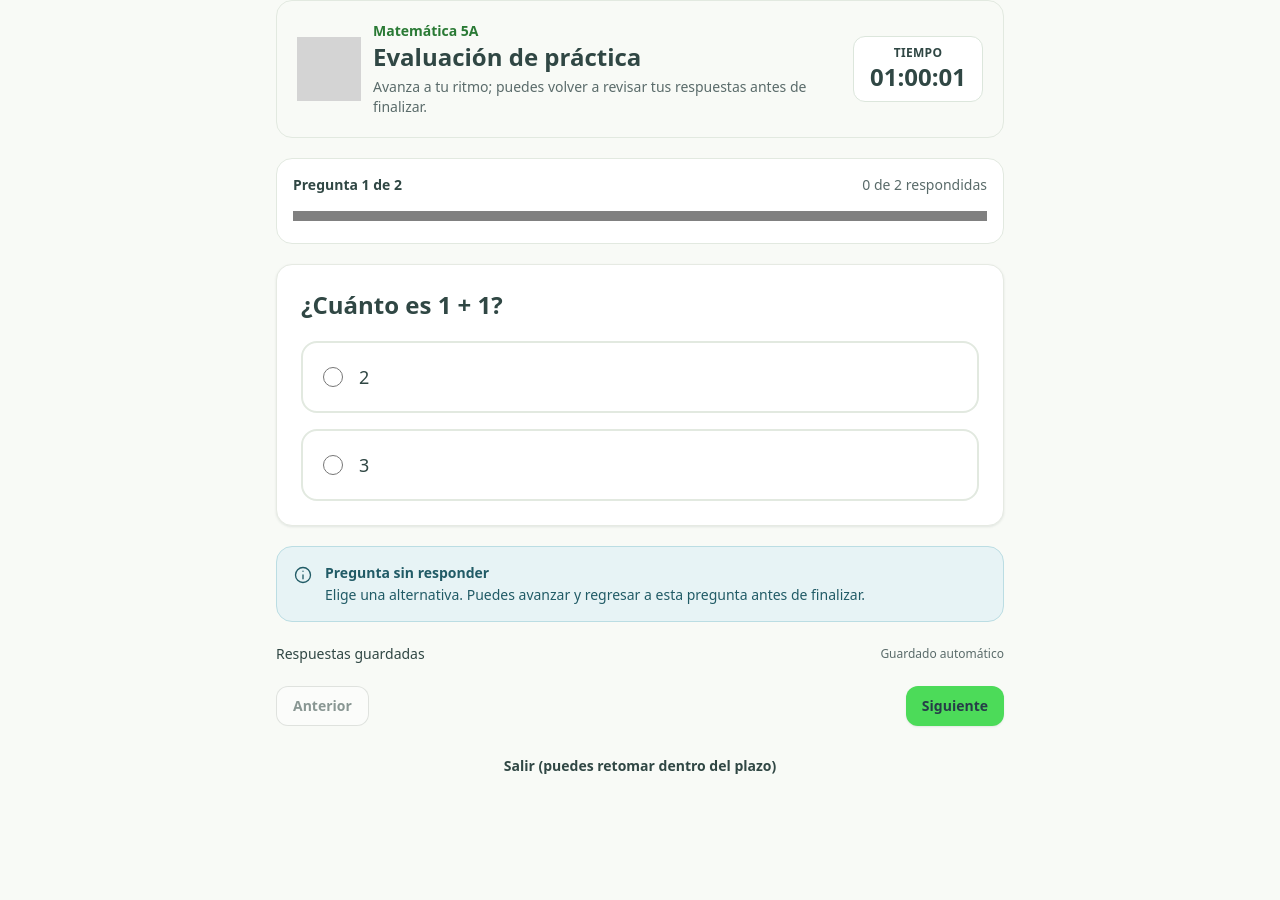
it: StudentAttempt › confirma el envío final y muestra la pantalla completada
Click the radio button labelled "2" at (333, 377), box [323, 367, 343, 387]
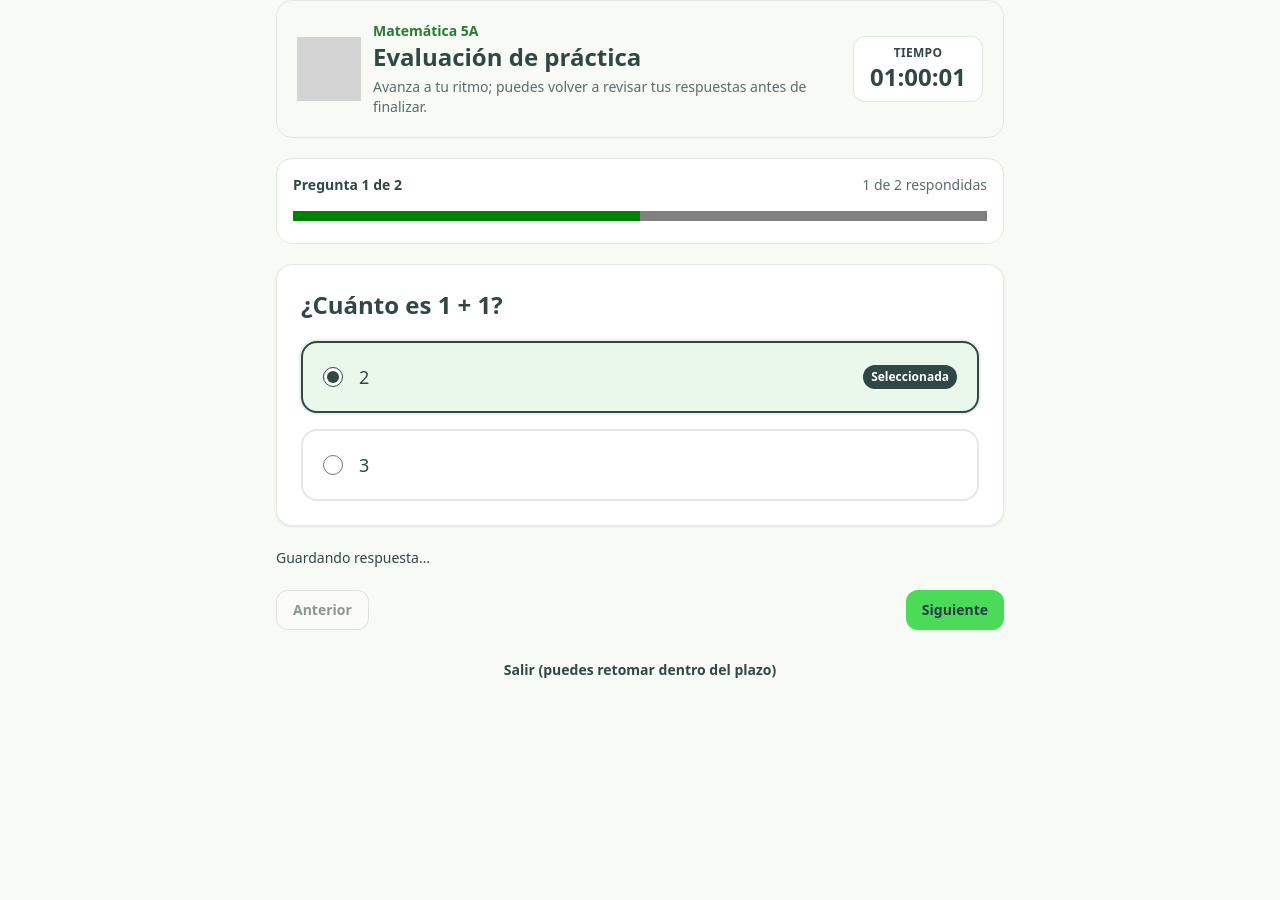
Click the button "Siguiente" at (955, 610), box [906, 590, 1004, 630]
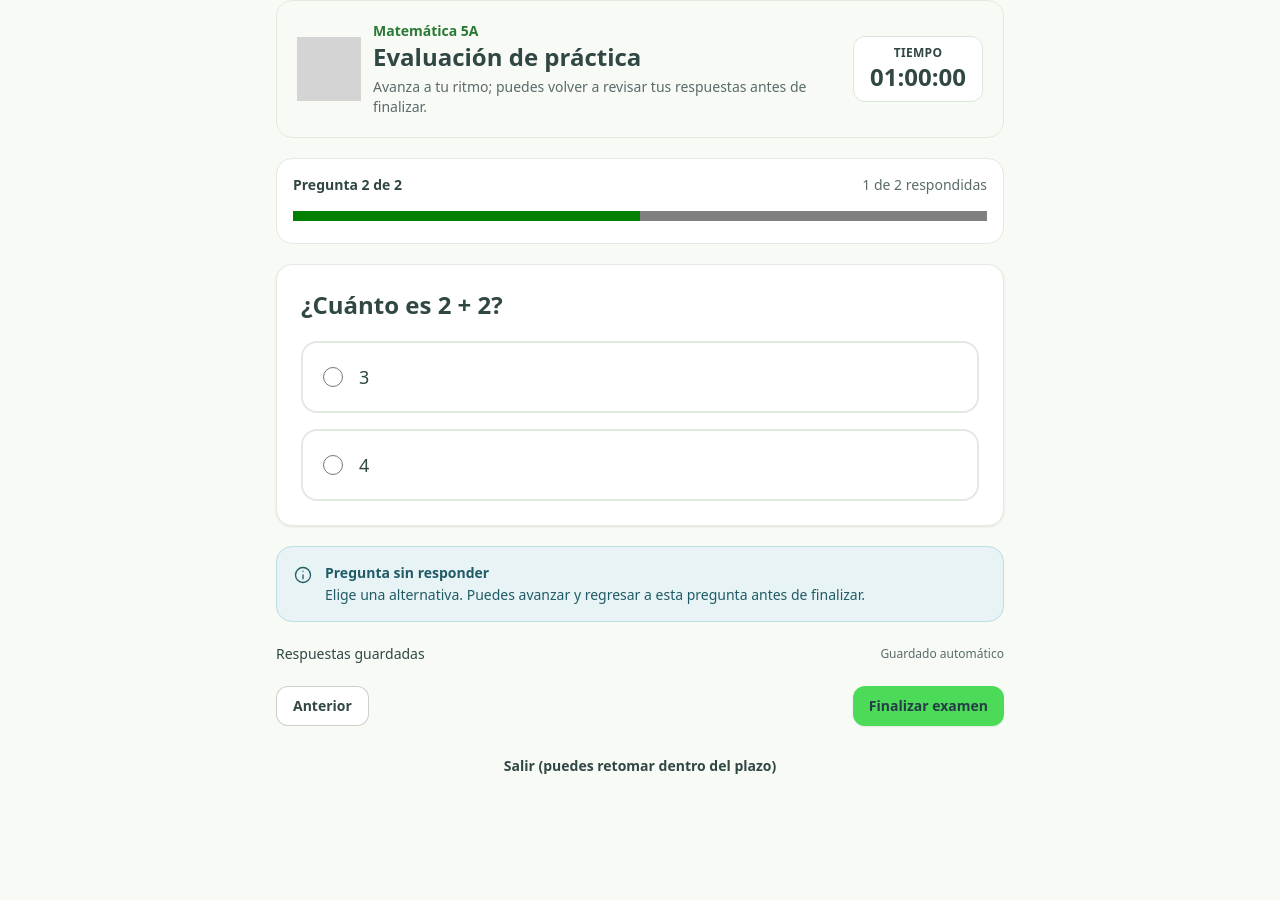
Click the radio button labelled "4" at (333, 465), box [323, 455, 343, 475]
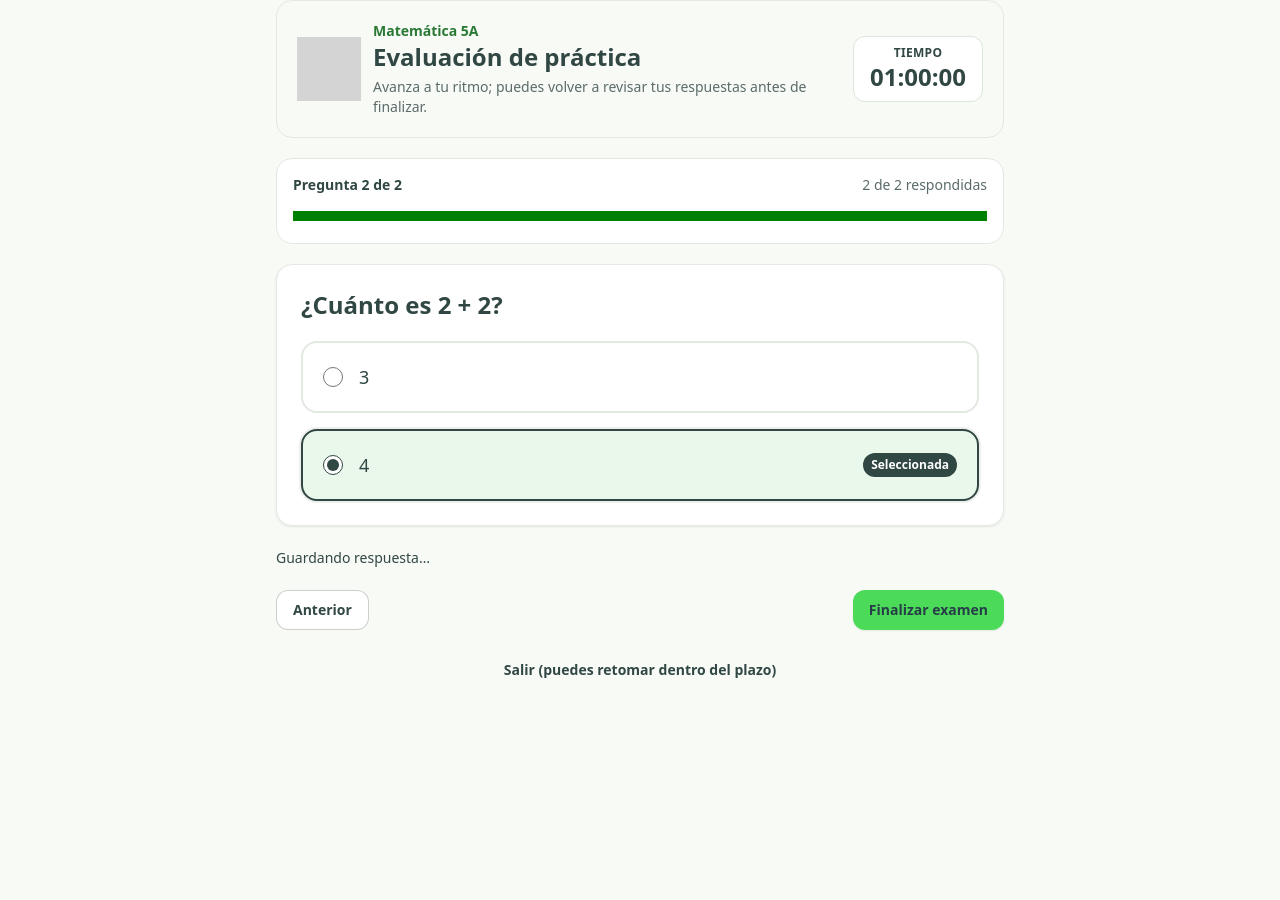
Click the button "Finalizar examen" at (928, 610), box [853, 590, 1004, 630]
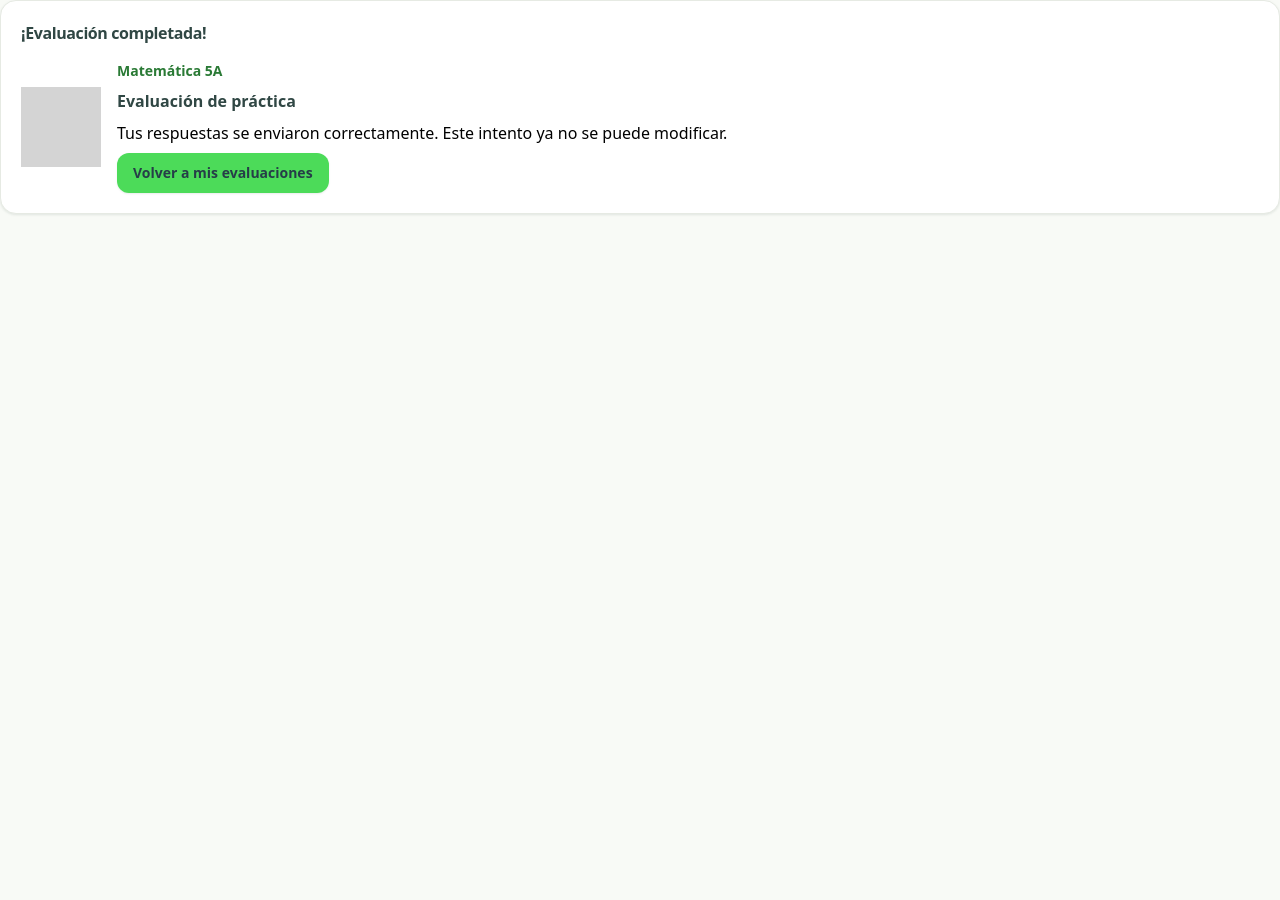
expect the heading "¡Evaluación completada!" is shown: met, box [21, 21, 206, 45]
expect the text "Tus respuestas se enviaron correctamente" is shown: met, box [117, 122, 727, 144]
expect the button "Finalizar examen" is gone: met
